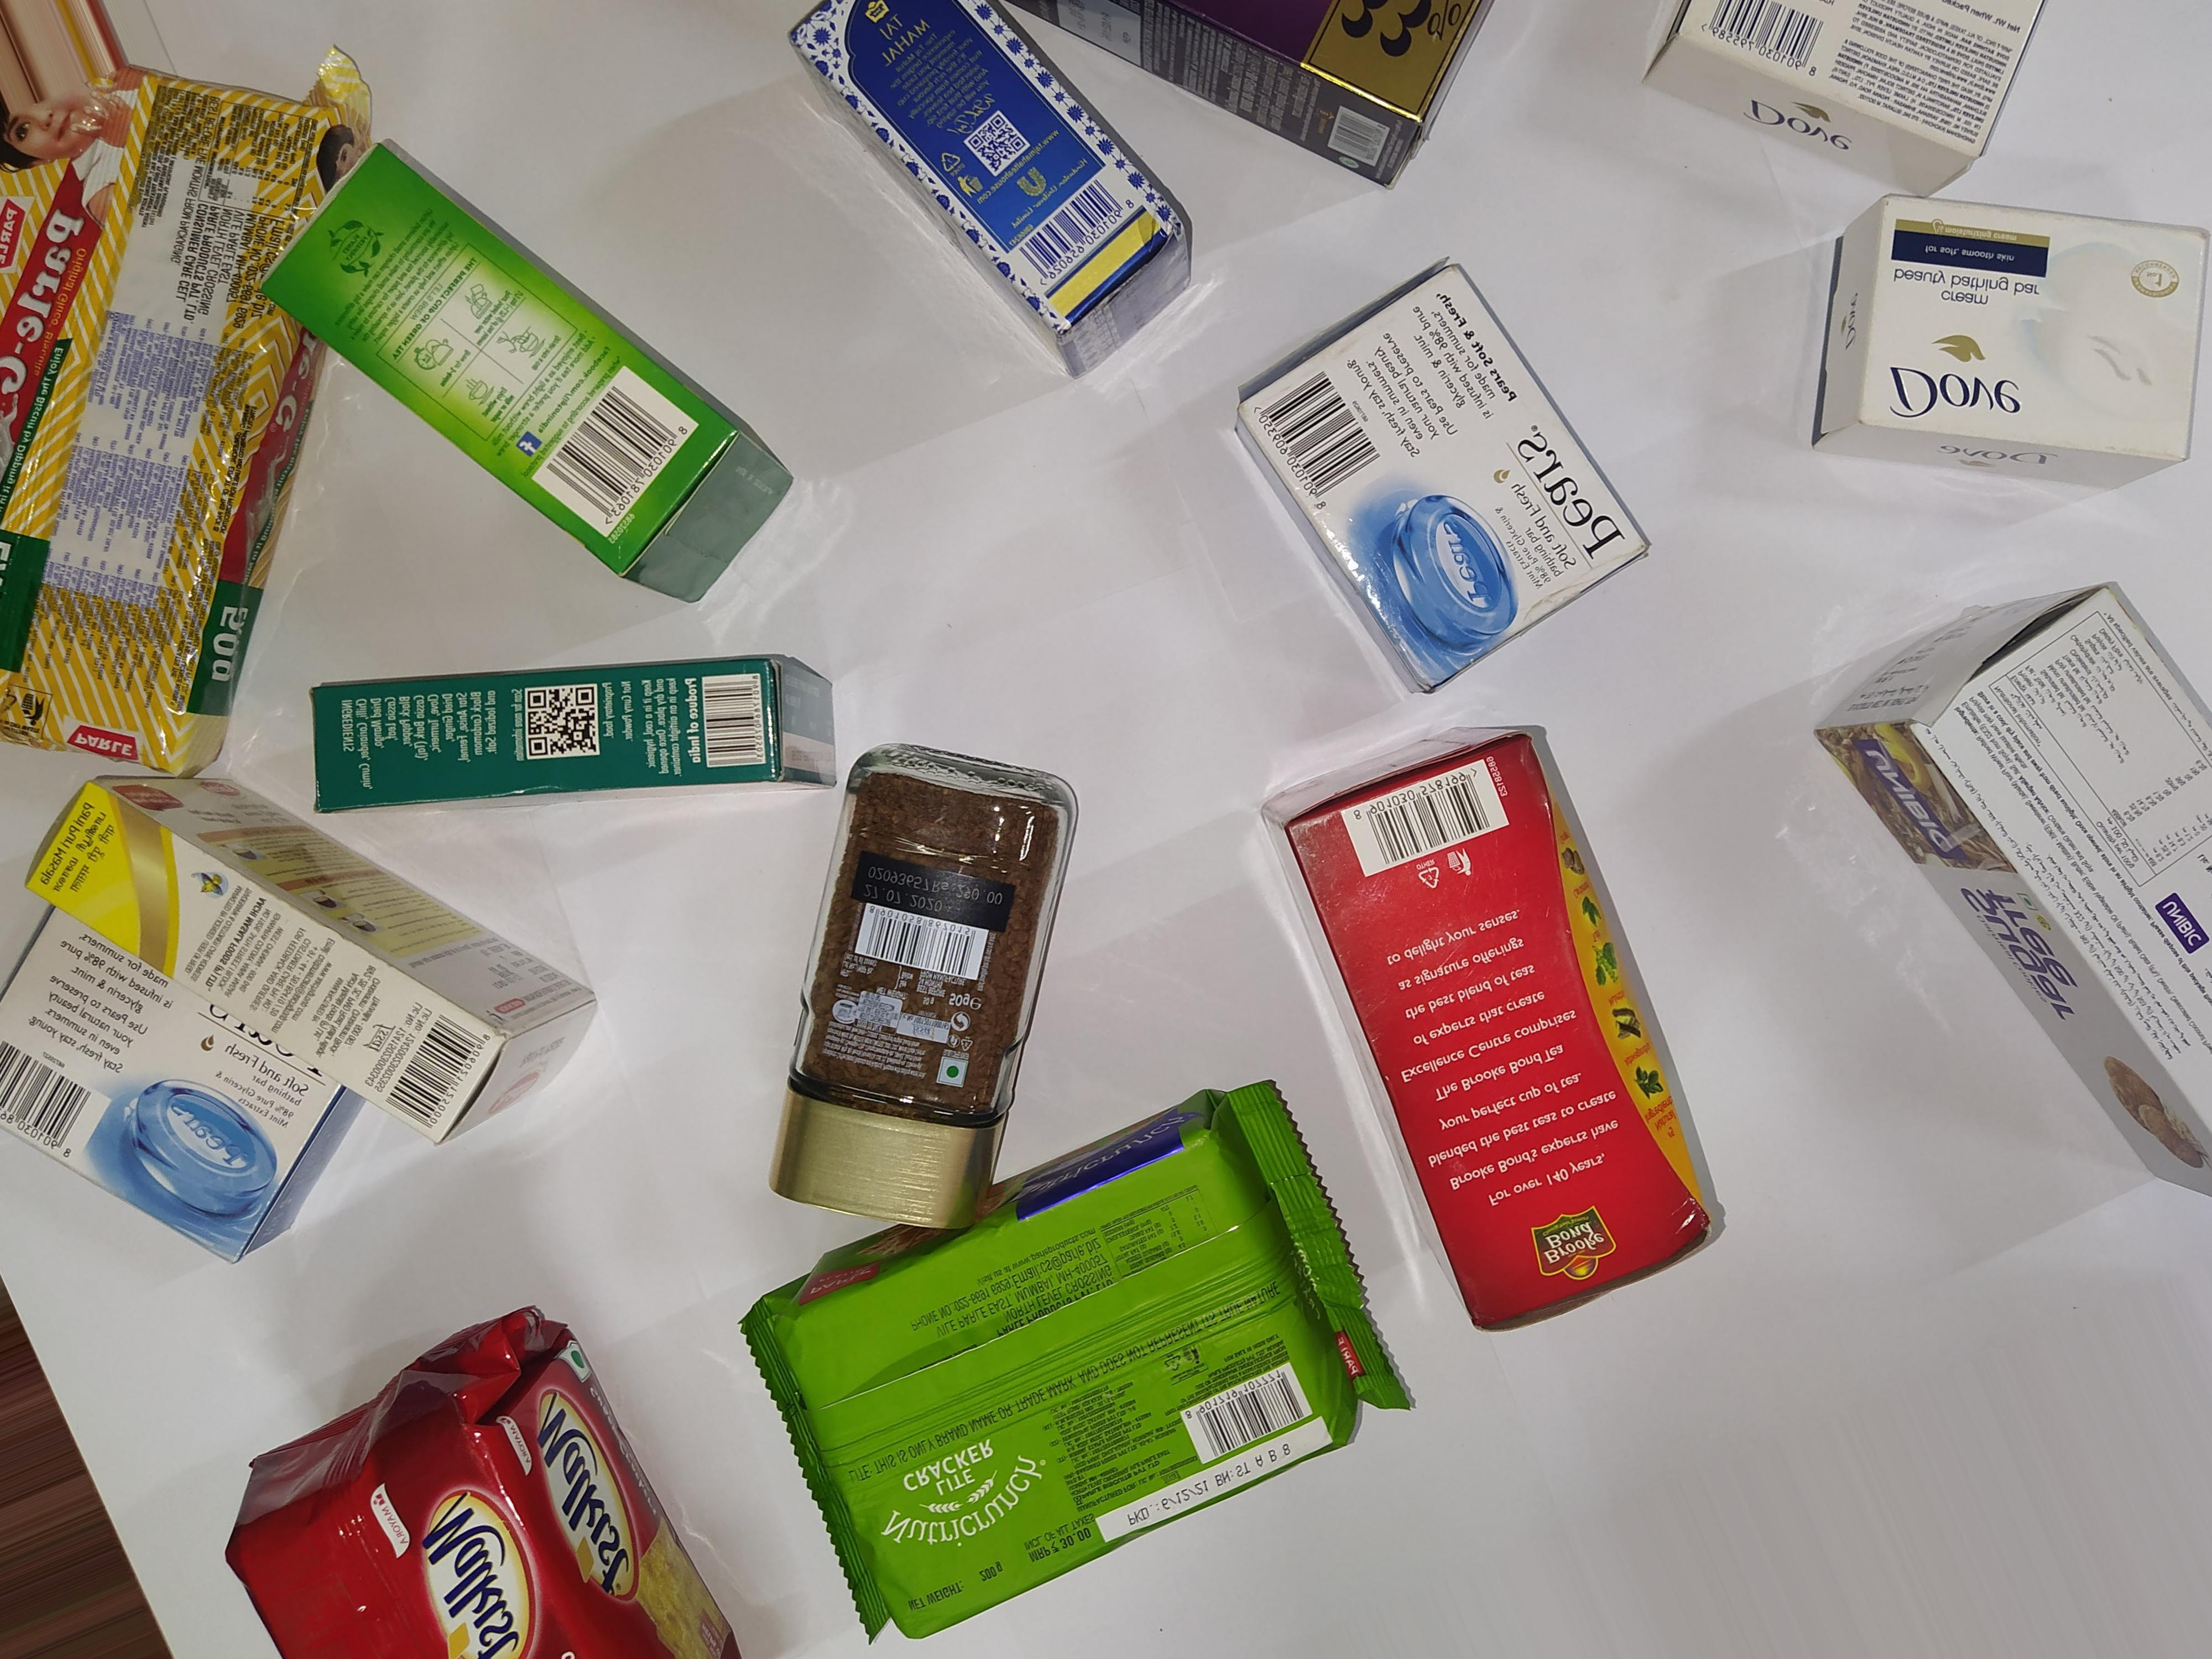Bar_code: (533, 368, 711, 561), (1306, 751, 1540, 875), (1240, 366, 1397, 512), (1012, 166, 1151, 315), (843, 877, 1008, 1000), (0, 1037, 124, 1185), (1165, 1363, 1339, 1457), (390, 1007, 488, 1148), (1689, 0, 1829, 96), (686, 669, 787, 782)
Item: (740, 1089, 1414, 1654), (1278, 728, 1756, 1356), (246, 132, 813, 627), (1815, 568, 2212, 1216), (0, 40, 334, 791), (17, 751, 627, 1157), (1223, 275, 1695, 709), (171, 1321, 772, 1659), (780, 0, 1231, 385), (791, 720, 1054, 1265), (1777, 195, 2202, 511), (0, 932, 385, 1279), (280, 650, 862, 824), (1599, 0, 2055, 199)
QR_code: (512, 687, 610, 762), (972, 120, 1035, 176)
